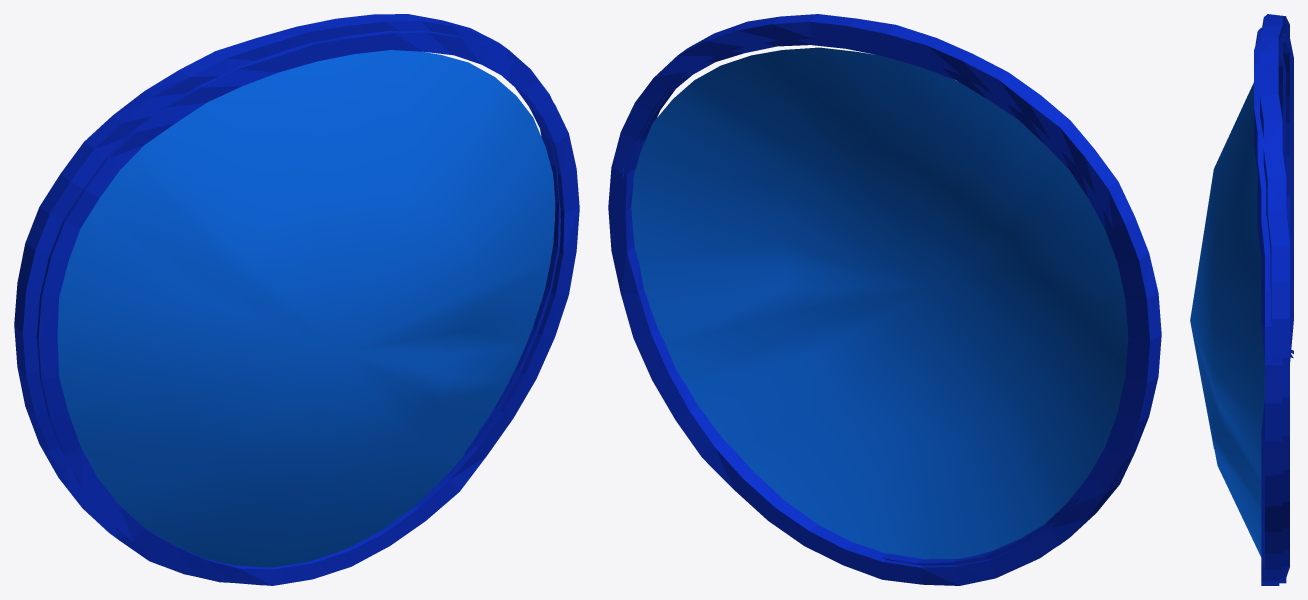
File: blue.FBX
3 renders of one model, left to right at view 1: azimuth 30°, elevation 25°; view 2: azimuth 150°, elevation 25°; view 3: azimuth 270°, elevation 25°, orthographic. The views are drawn at different scales.
Visible parts, largest first — view 1: VIFS05, VIFS06, VIFS007; view 2: VIFS05, VIFS007, VIFS06; view 3: VIFS05, VIFS007, VIFS06.
Boxes of the visible parts, <box> form: VIFS05: <box>57,50,555,582</box>; VIFS06: <box>36,30,579,585</box>; VIFS007: <box>14,14,560,585</box>; VIFS05: <box>631,47,1128,559</box>; VIFS007: <box>608,14,1161,585</box>; VIFS06: <box>639,39,1136,565</box>; VIFS05: <box>1190,82,1264,556</box>; VIFS007: <box>1260,14,1293,583</box>; VIFS06: <box>1254,27,1286,585</box>.
Bounding box in the file's own units: 13.15 × 12.55 × 2.32.
